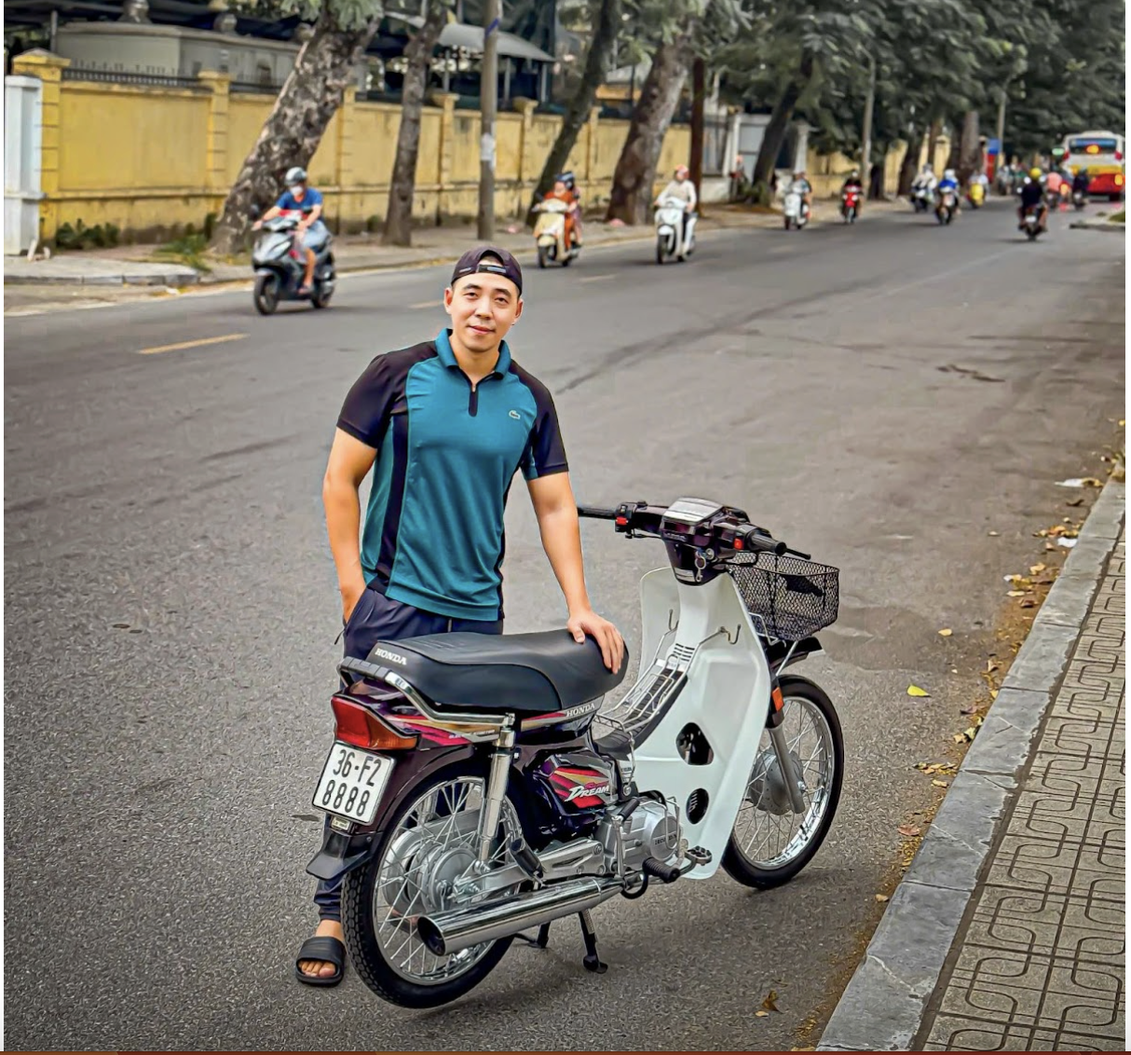bien_so: (306, 735, 399, 829)
